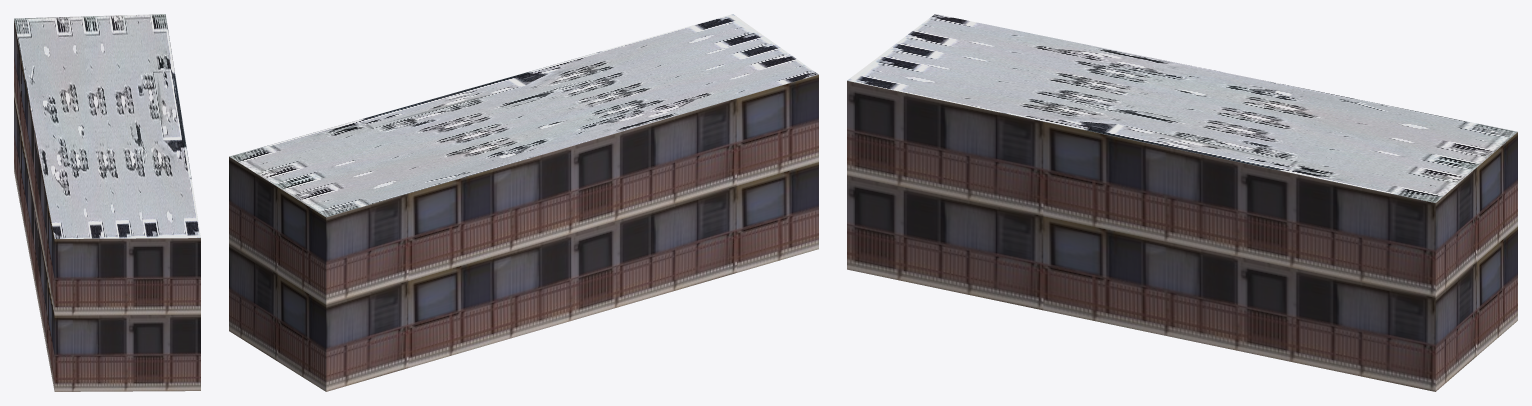
The model's file is ResTex__1013.fbx.
The picture shows the model from 3 angles, left to right: view 1: azimuth 30°, elevation 25°; view 2: azimuth 150°, elevation 25°; view 3: azimuth 270°, elevation 25°; orthographic projection. The views are drawn at different scales.
Visible parts, largest first — view 1: CityEngineMaterial_m, CityEngineMaterial_6_m; view 2: CityEngineMaterial_6_m, CityEngineMaterial_m; view 3: CityEngineMaterial_6_m, CityEngineMaterial_m.
Boxes of the visible parts, left/top/right/bottom form: CityEngineMaterial_m: left=14, top=14, right=200, bottom=238; CityEngineMaterial_6_m: left=14, top=19, right=200, bottom=391; CityEngineMaterial_6_m: left=229, top=74, right=818, bottom=391; CityEngineMaterial_m: left=229, top=14, right=818, bottom=217; CityEngineMaterial_6_m: left=847, top=80, right=1517, bottom=391; CityEngineMaterial_m: left=847, top=14, right=1517, bottom=202.
Size of the model in its own units: 12.88 by 6 by 19.32.
2 materials, 2 textured.
